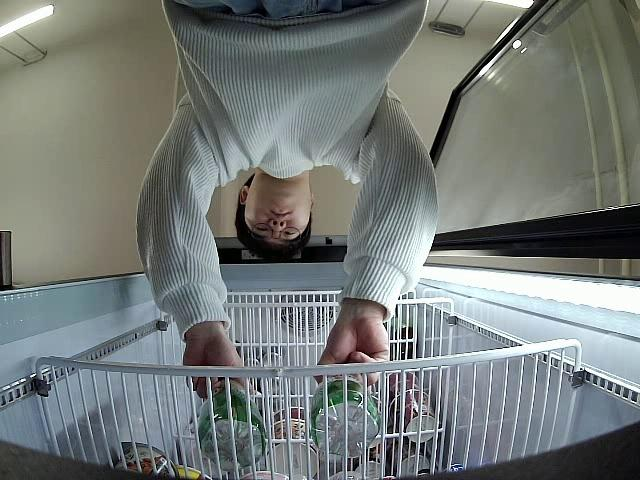00_hand: (311, 323, 390, 388), (181, 333, 257, 397)
19_17cha: (198, 381, 269, 469), (311, 374, 379, 457)
